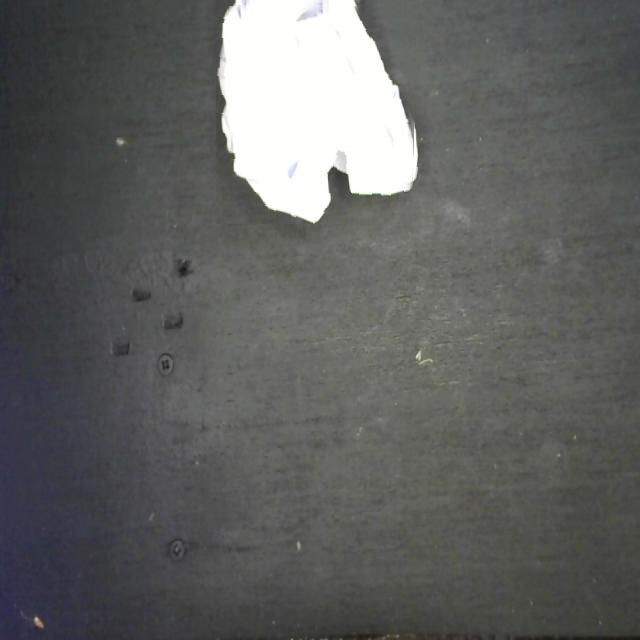biodegradable: (216, 0, 417, 224)
